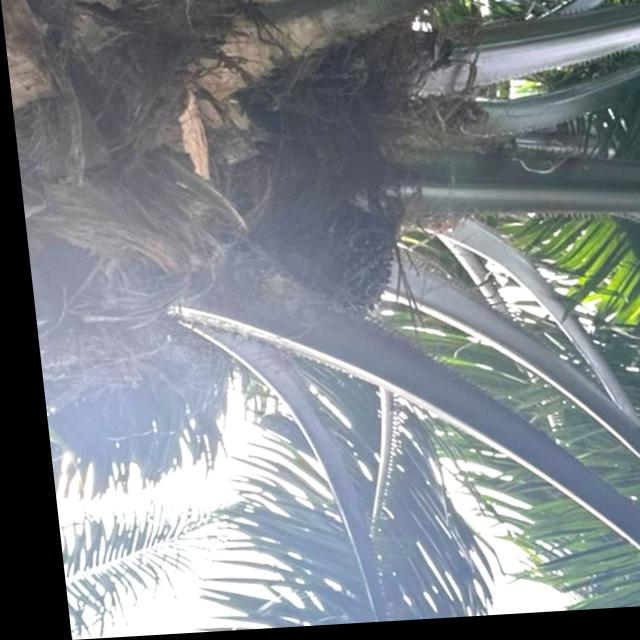unripe: (275, 216, 404, 332)
